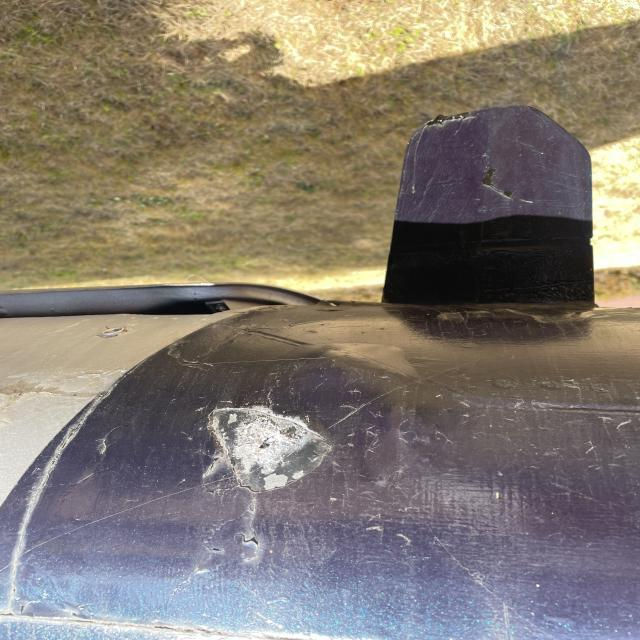crack: (197, 534, 268, 553)
dent: (196, 405, 342, 496)
